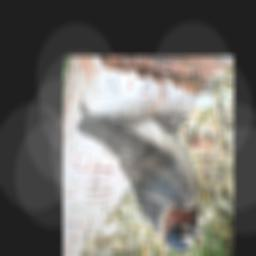Swallow: (74, 101, 206, 255)
